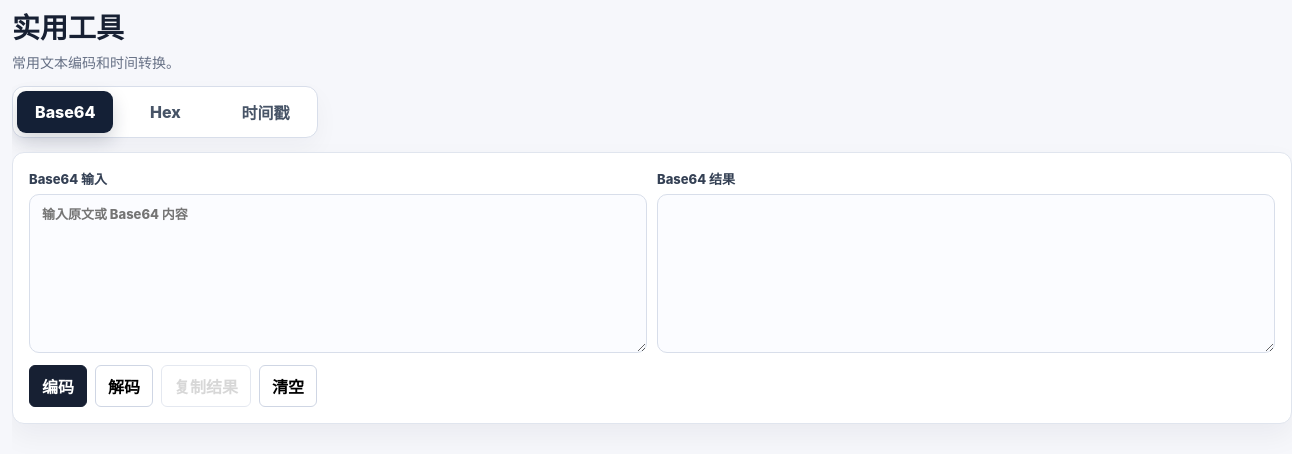
Test: shows one utility tab at a time
Expected: the text box labelled "Base64 输入" is shown, [29,194,647,353]
Expected: the field labelled "Hex 输入" is not shown
Click the tab "Hex" at (165, 112), box [117,91,213,133]
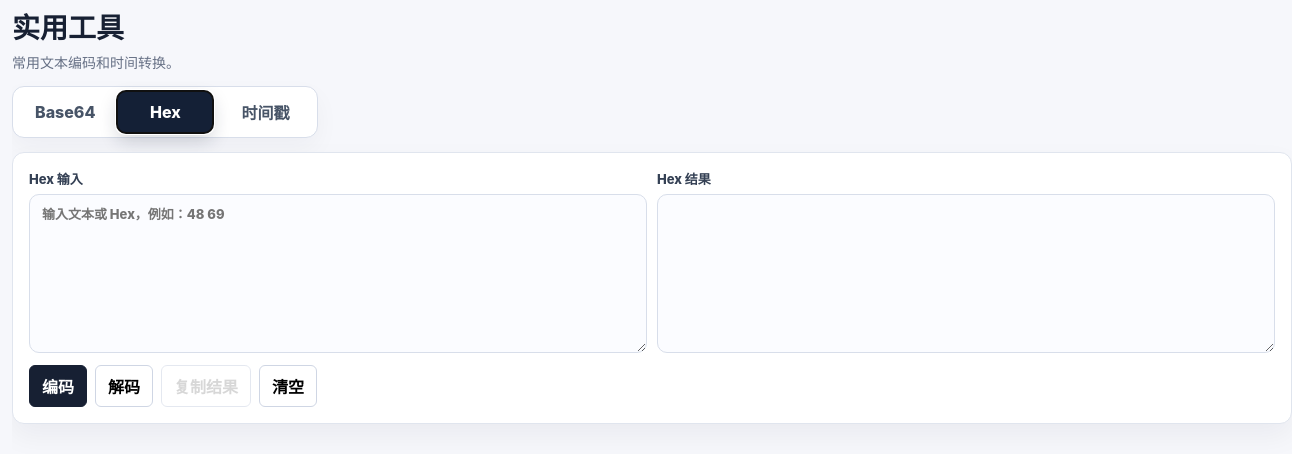
Expected: the text box labelled "Hex 输入" is shown, [29,194,647,353]
Expected: the text labelled "Base64 输入" is gone
Click the tab "时间戳" at (265, 112), box [217,91,313,133]
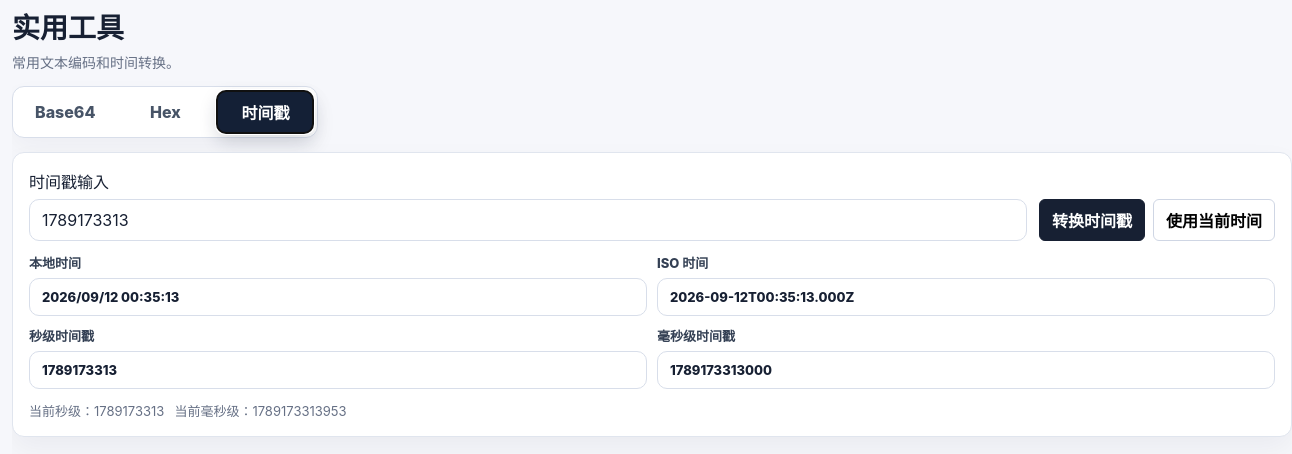
Expected: the field labelled "时间戳输入" is shown, [29,199,1027,241]
Expected: the text labelled "Hex 输入" is gone
